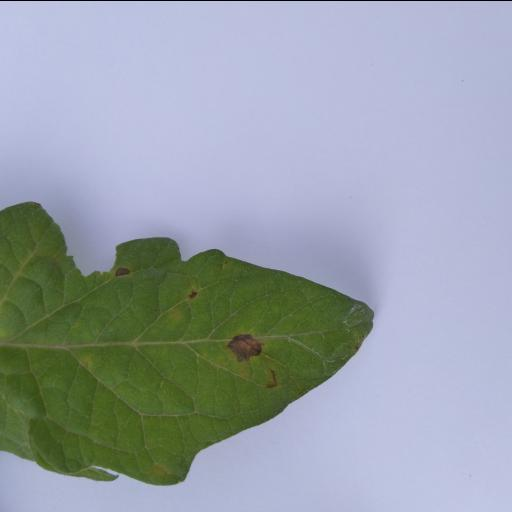disease_tomato: (0, 202, 374, 486)
